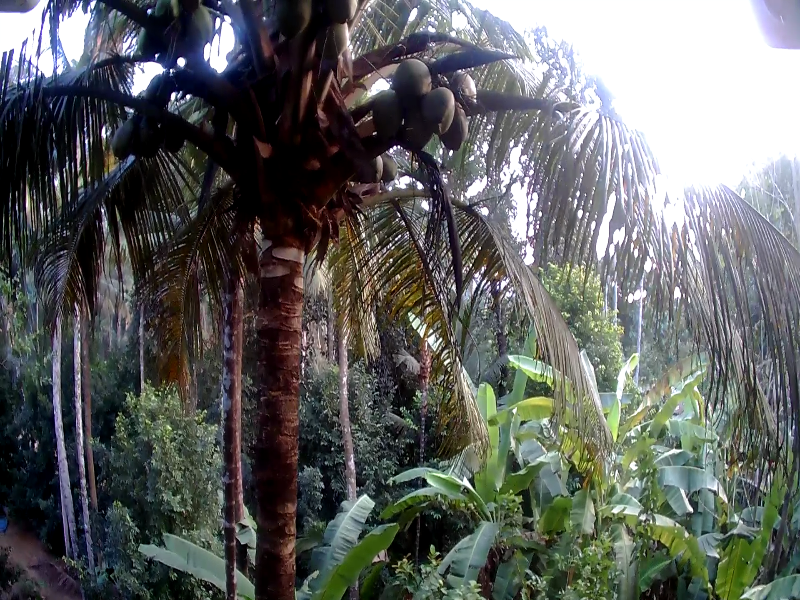coconut: (423, 87, 457, 137), (392, 56, 428, 103), (323, 30, 363, 61), (110, 119, 142, 152), (274, 4, 309, 33), (140, 20, 168, 54), (453, 77, 481, 107), (328, 1, 356, 30), (381, 98, 398, 129)
